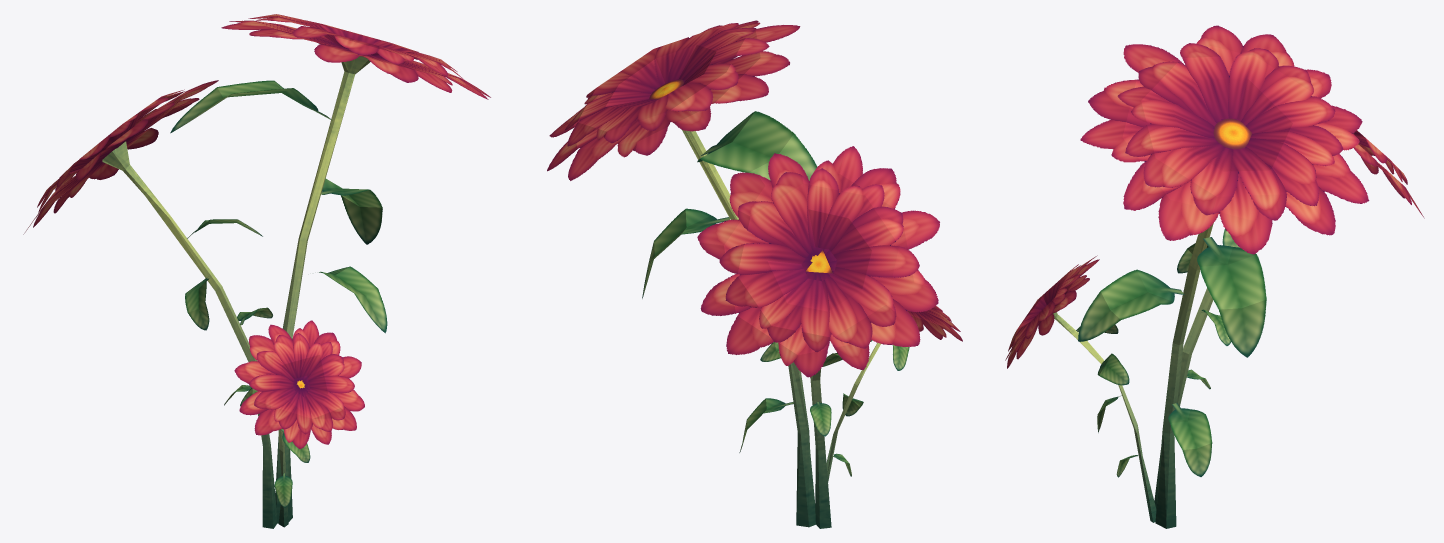
The model's file is VEG0310031.fbx.
The picture shows the model from 3 angles, left to right: view 1: azimuth 30°, elevation 25°; view 2: azimuth 150°, elevation 25°; view 3: azimuth 270°, elevation 25°; orthographic projection. The views are drawn at different scales.
Parts seen in each view (by area): view 1: smVEG0310031; view 2: smVEG0310031; view 3: smVEG0310031.
Boxes of the visible parts, x1,y1,x2,y2 form: smVEG0310031: (23,14,490,528); smVEG0310031: (547,20,962,528); smVEG0310031: (1005,25,1424,528).
Size of the model in its own units: 38.3 by 41.47 by 32.4.
Materials: 1 (1 with a texture image).
